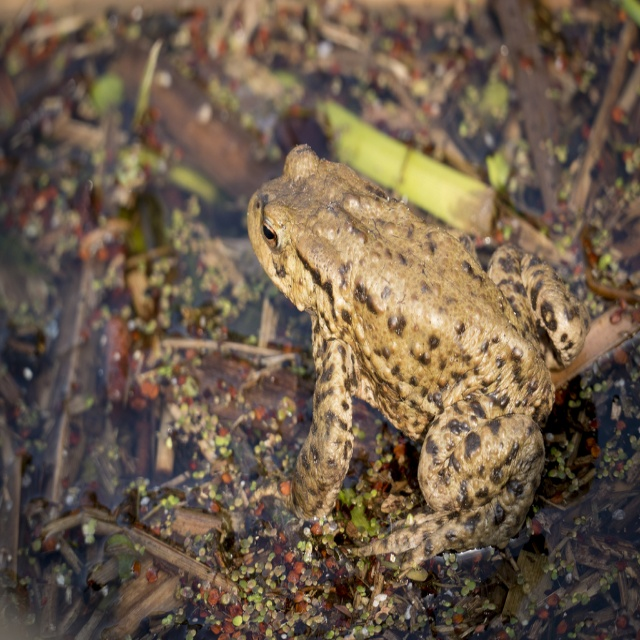Frog: (248, 145, 590, 580)
